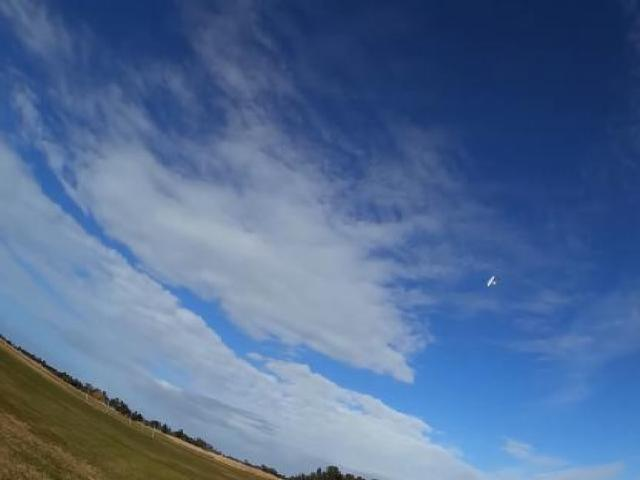uav: (482, 269, 502, 293)
